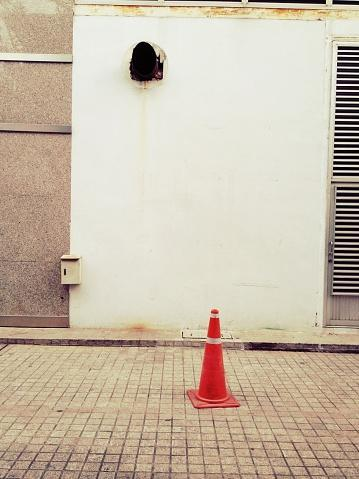Cone: (186, 307, 241, 410)
